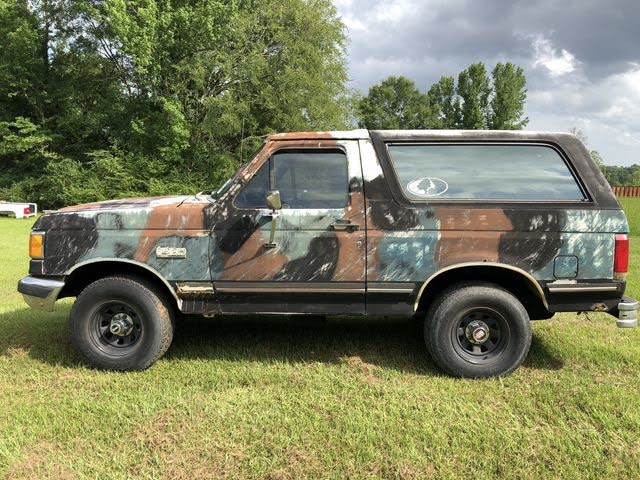Vehicle: (15, 126, 640, 381)
